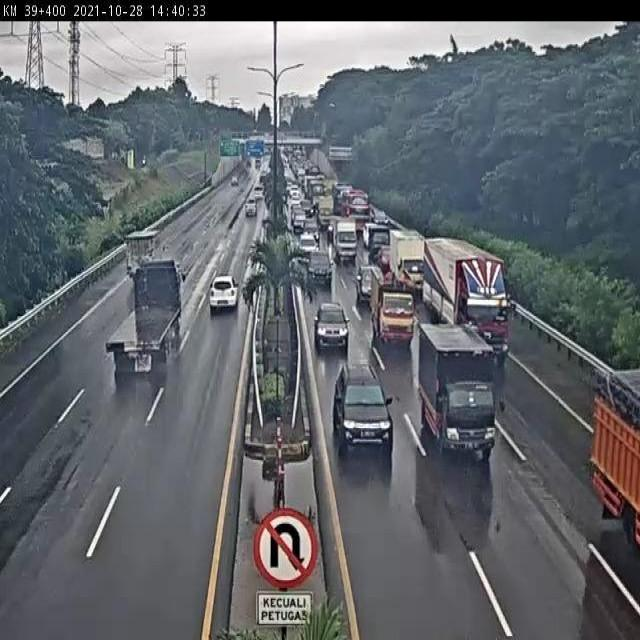big truck: (104, 257, 187, 376), (424, 241, 506, 351)
car: (331, 364, 395, 451), (314, 300, 350, 355), (207, 272, 240, 311), (353, 266, 385, 302), (305, 248, 333, 289)
small truck: (420, 327, 497, 456), (369, 275, 415, 348), (385, 227, 425, 292), (124, 227, 163, 276), (327, 218, 358, 262)
